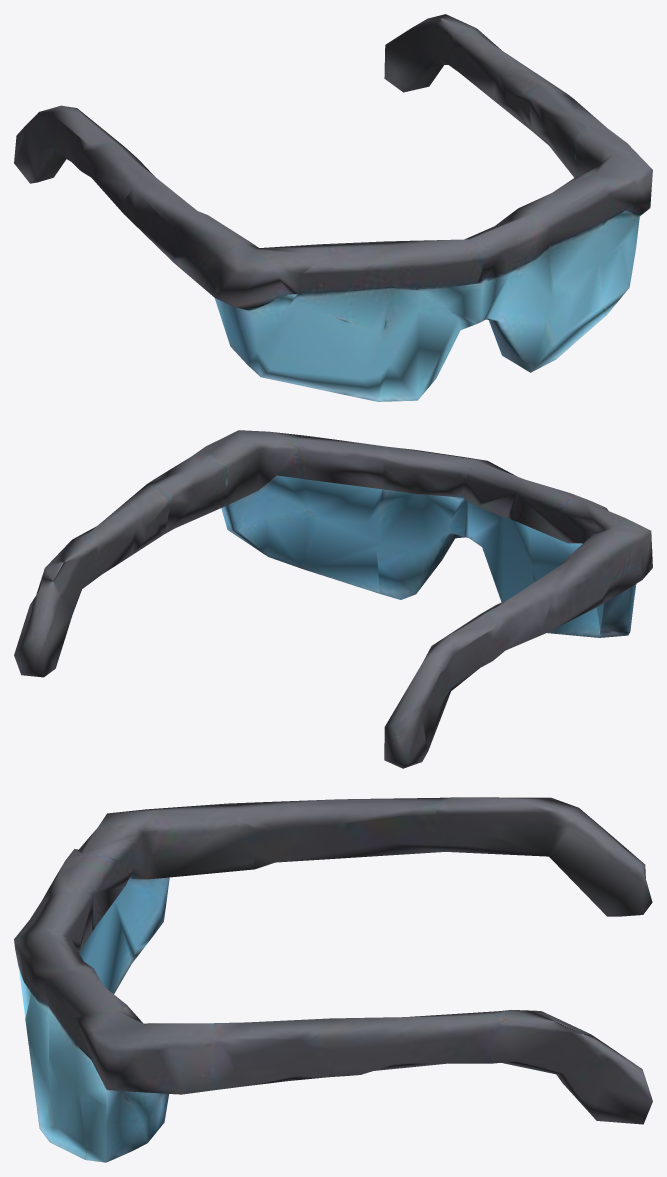
The model's file is safety.glb.
3 renders of one model, top to bottom at view 1: azimuth 30°, elevation 25°; view 2: azimuth 150°, elevation 25°; view 3: azimuth 270°, elevation 25°, orthographic. The views are drawn at different scales.
Visible parts, largest first — view 1: tripo_node_d9f10447-3ad6-46aa-8797-3127da4fe739; view 2: tripo_node_d9f10447-3ad6-46aa-8797-3127da4fe739; view 3: tripo_node_d9f10447-3ad6-46aa-8797-3127da4fe739.
Part boxes in pixels (x1,y1,x2,y2): tripo_node_d9f10447-3ad6-46aa-8797-3127da4fe739: [14, 14, 652, 401]; tripo_node_d9f10447-3ad6-46aa-8797-3127da4fe739: [14, 430, 652, 768]; tripo_node_d9f10447-3ad6-46aa-8797-3127da4fe739: [14, 797, 652, 1162].
Size of the model in its own units: 0.8963 by 0.3331 by 0.9962.
1 material, 1 textured.
